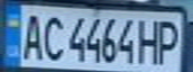4: (63, 12, 87, 62), (115, 15, 139, 64), (81, 14, 103, 63)
6: (100, 15, 121, 64)
A: (18, 9, 45, 61)
C: (39, 11, 66, 62)
H: (136, 16, 163, 65)
P: (154, 16, 184, 65)
